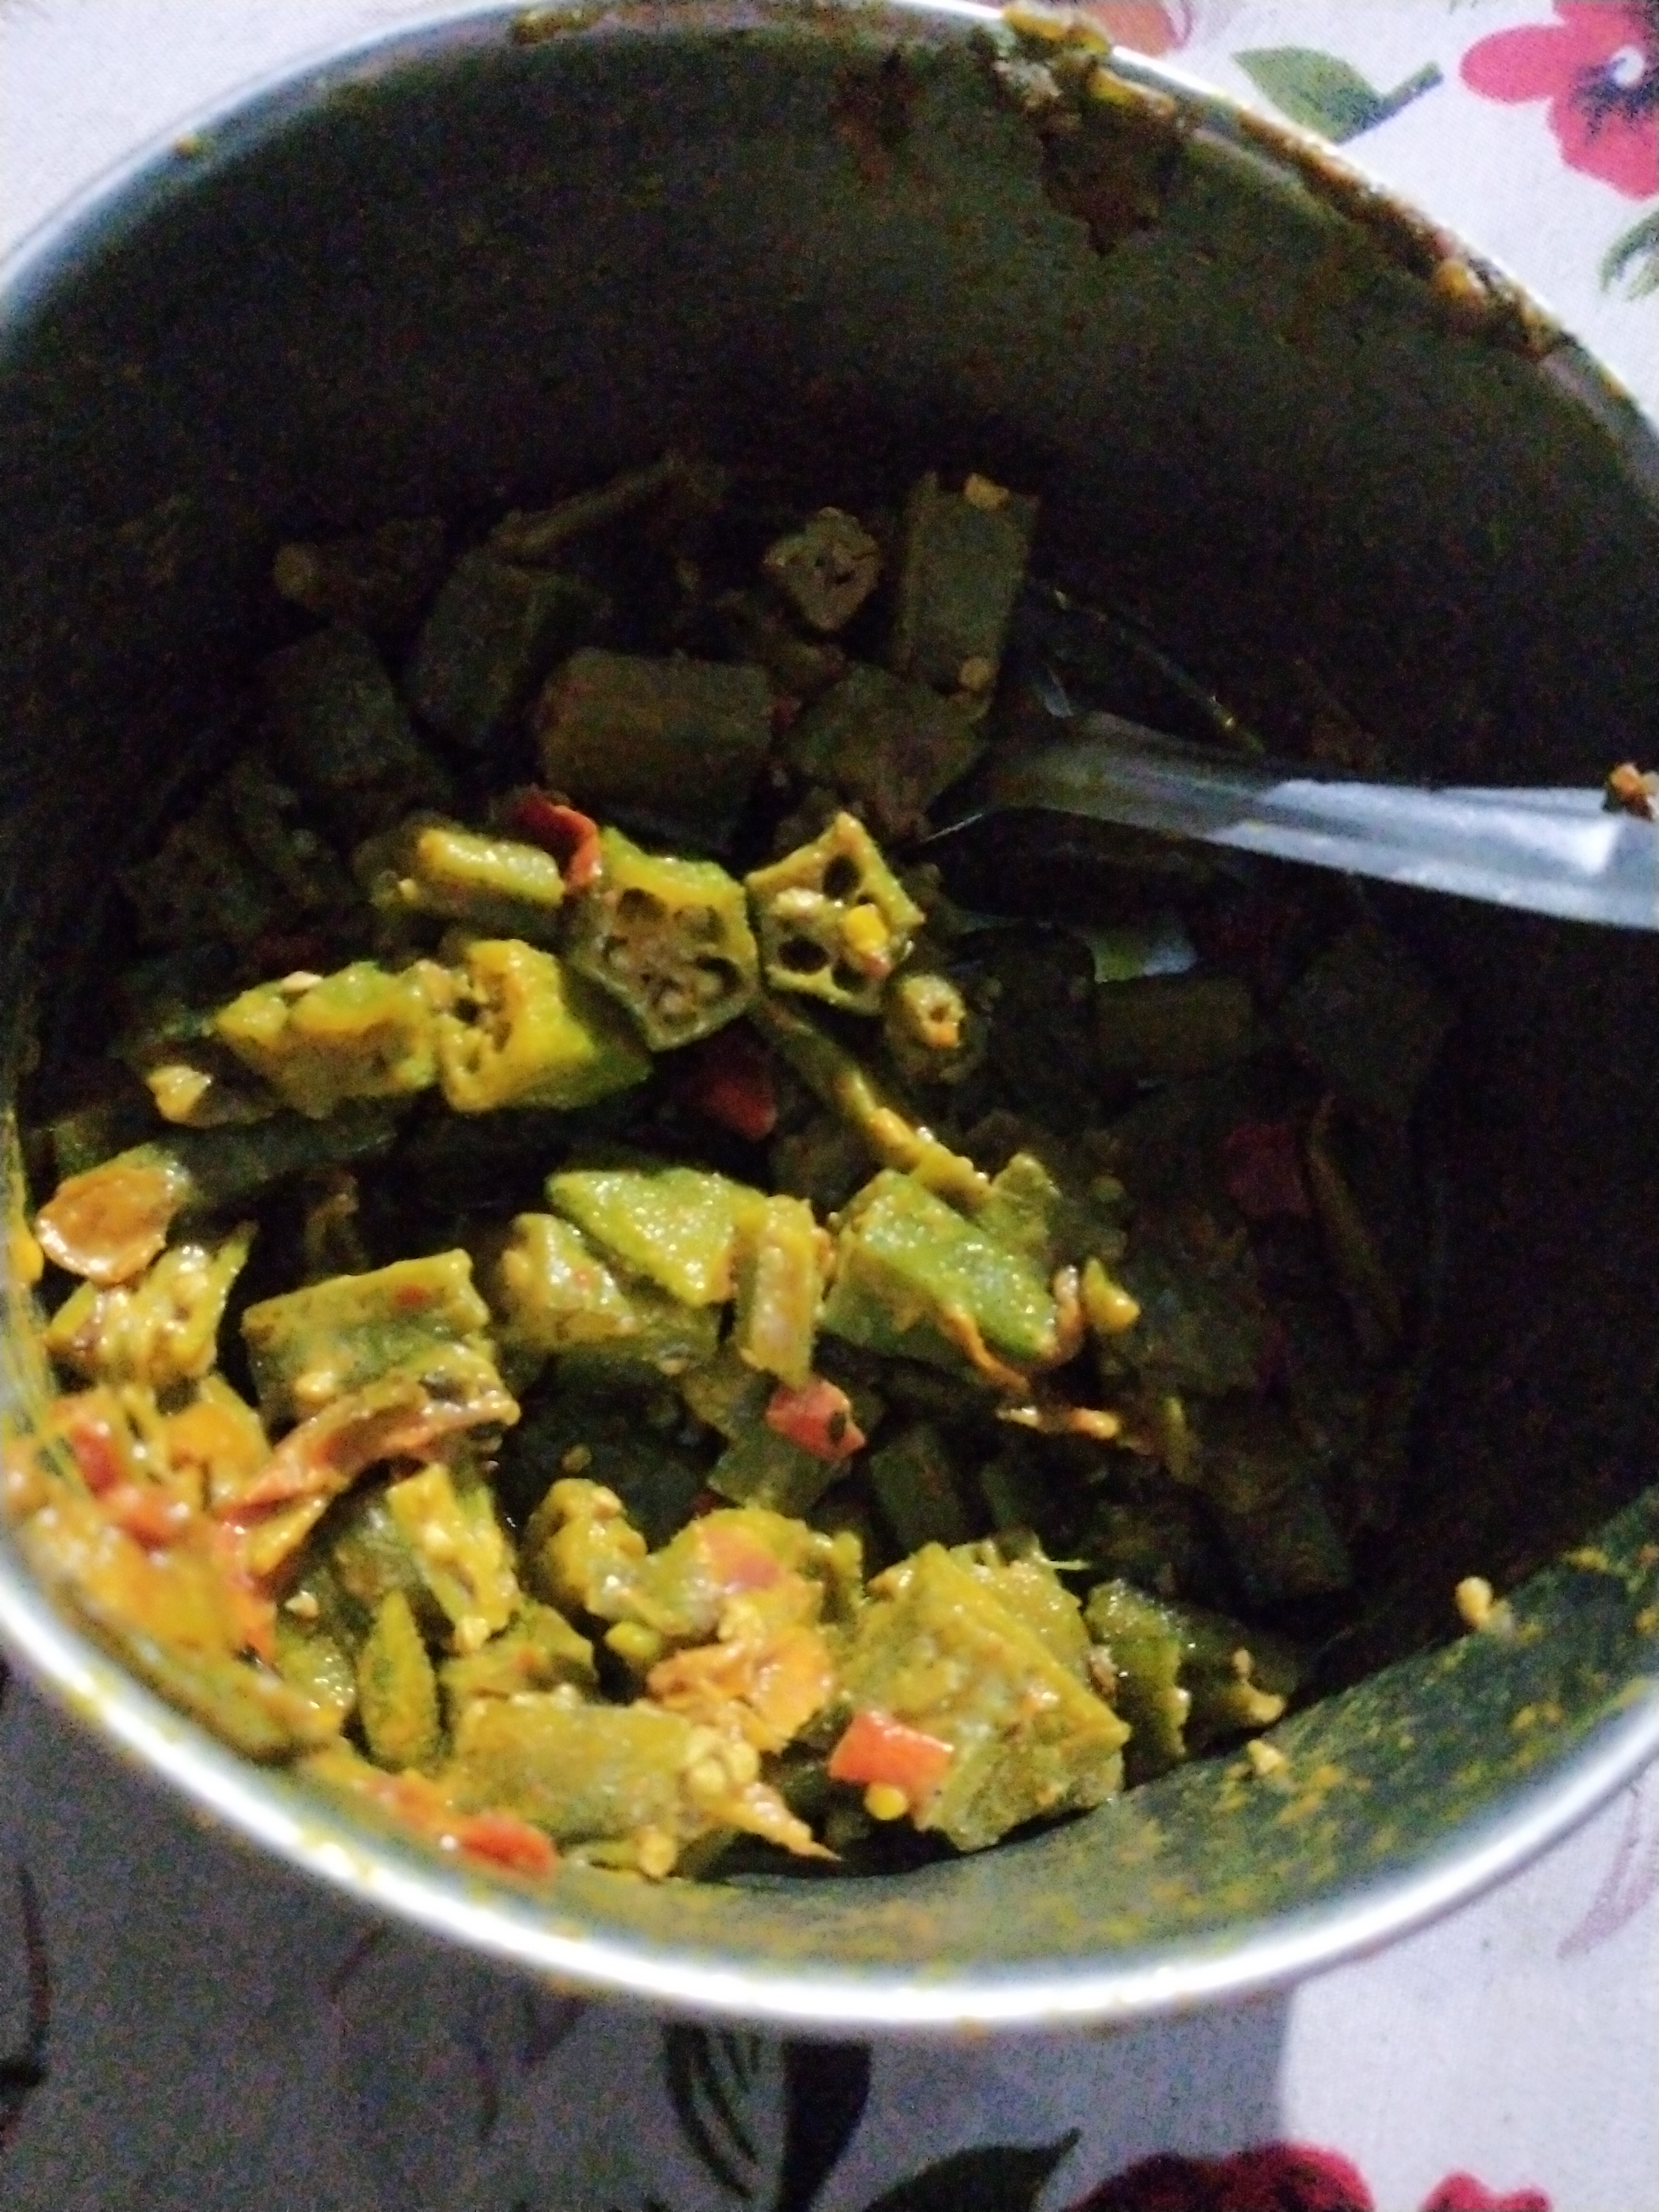food: (0, 415, 1485, 1893)
